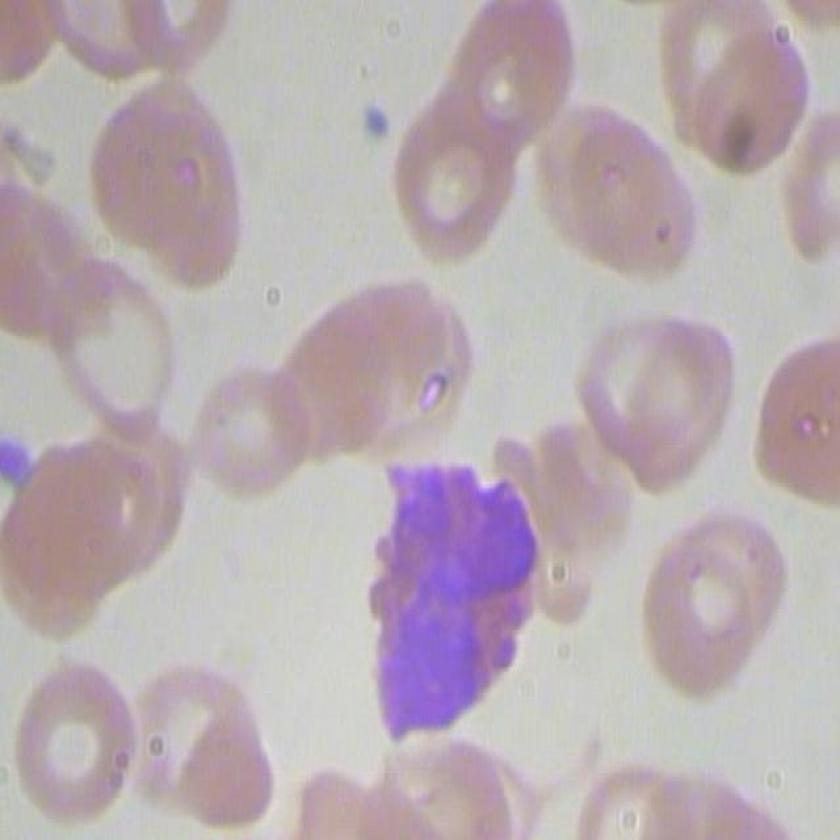eosinophil: (337, 441, 567, 769)
